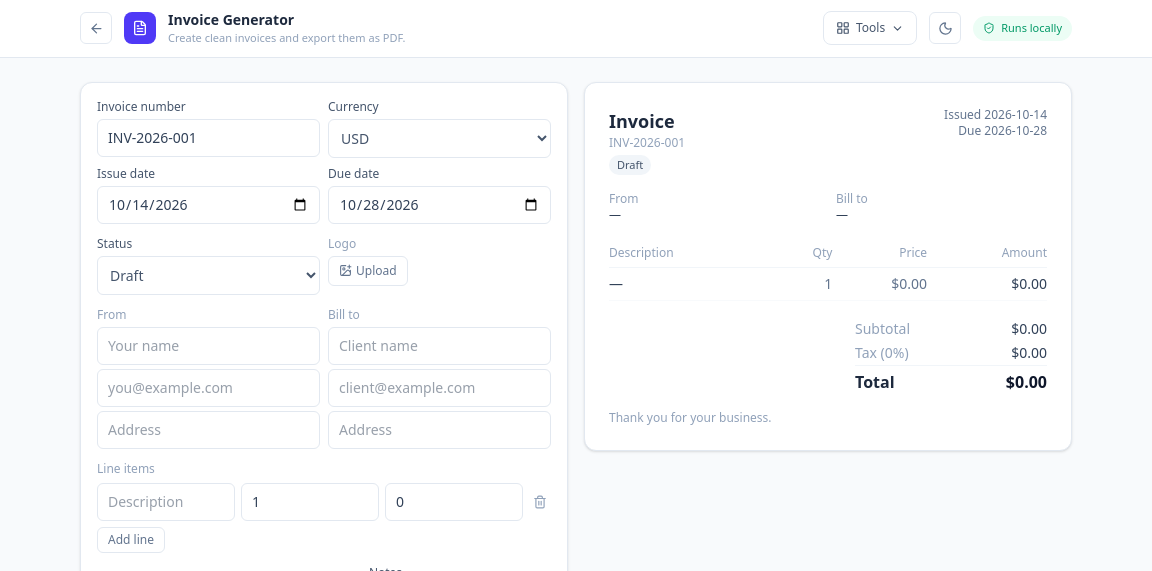
InvoiceApp › adds a line item
The width and height of the screenshot is (1152, 571).
Click the button "Add line".
click(131, 540)  # box [97, 526, 165, 552]
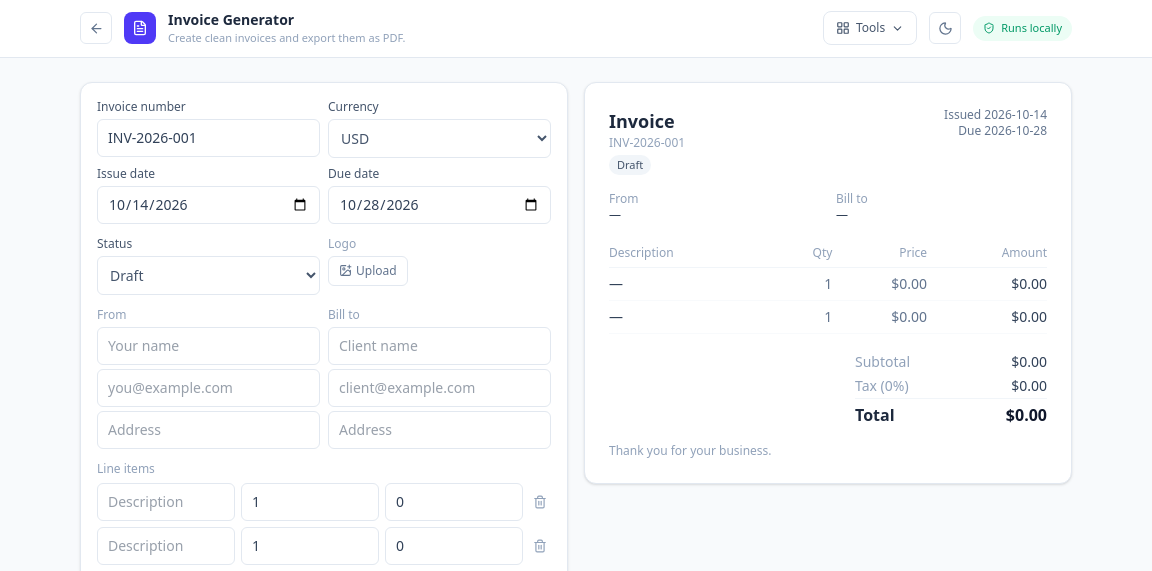
Expected: the number of fields named "Item description" is 2, [97, 482, 235, 520]; [97, 526, 235, 564]
